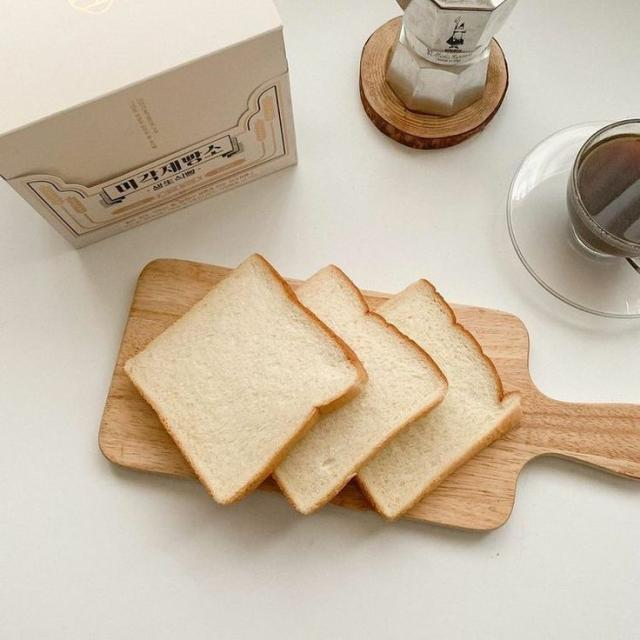sliced bread: (125, 255, 366, 503), (274, 267, 446, 513), (358, 280, 520, 519)
